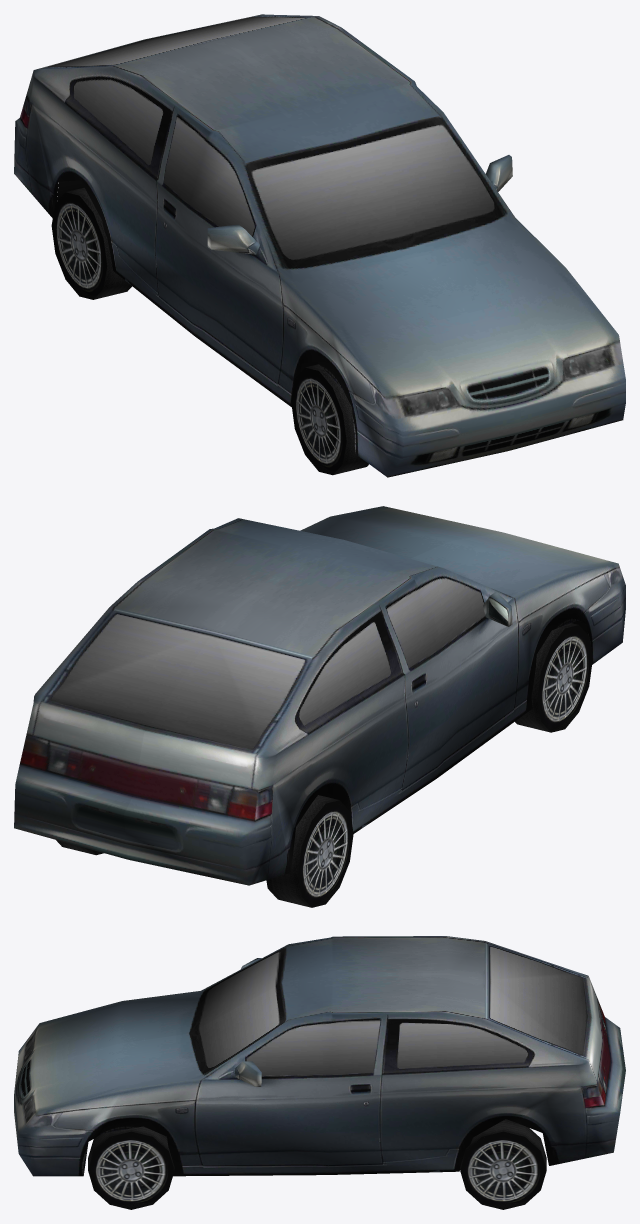
File: 06_lada_2112.glb
The picture shows the model from 3 angles, top to bottom: view 1: azimuth 30°, elevation 25°; view 2: azimuth 150°, elevation 25°; view 3: azimuth 270°, elevation 25°; orthographic projection. The views are drawn at different scales.
Parts seen in each view (by area): view 1: Lada112LP_33, WheelMesh.005_30, WheelMesh.006_31; view 2: Lada112LP_33, WheelMesh.006_31, WheelMesh.005_30; view 3: Lada112LP_33, WheelMesh.007_32, WheelMesh.004_29.
Boxes of the visible parts, x1,y1,x2,y2 form: Lada112LP_33: (14,14,625,477); WheelMesh.005_30: (291,364,368,475); WheelMesh.006_31: (51,187,132,299); Lada112LP_33: (14,506,625,885); WheelMesh.006_31: (266,795,353,907); WheelMesh.005_30: (515,623,592,732); Lada112LP_33: (14,936,625,1176); WheelMesh.007_32: (460,1119,546,1209); WheelMesh.004_29: (88,1126,174,1209).
Bounding box in the file's own units: 1.87 × 1.44 × 4.23.
Materials: 3 (2 with a texture image).
